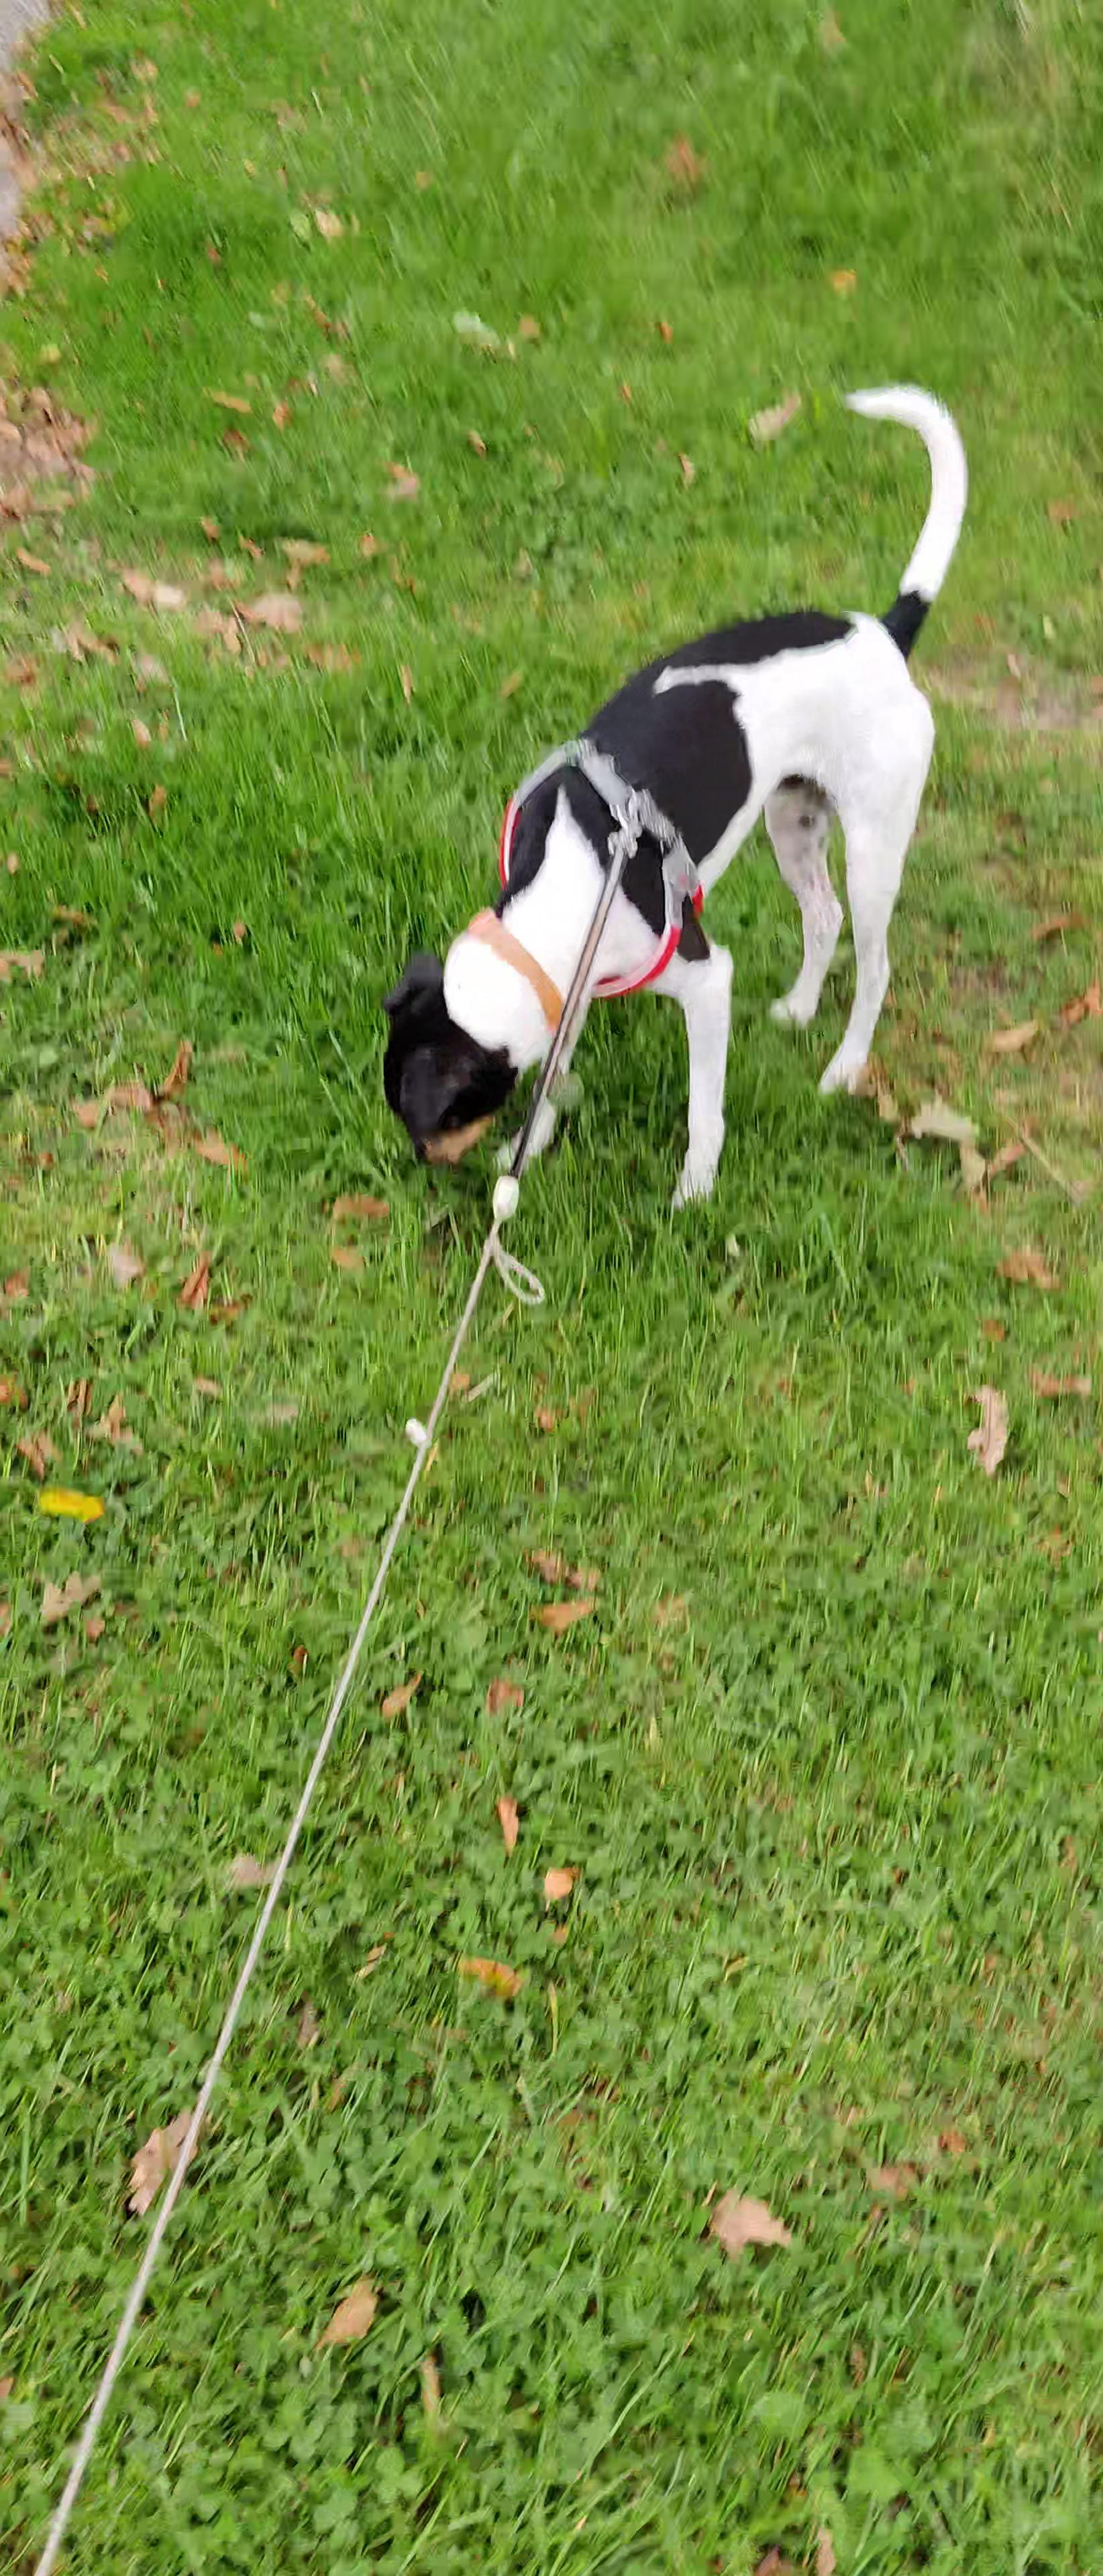Dog: (368, 365, 988, 1229)
